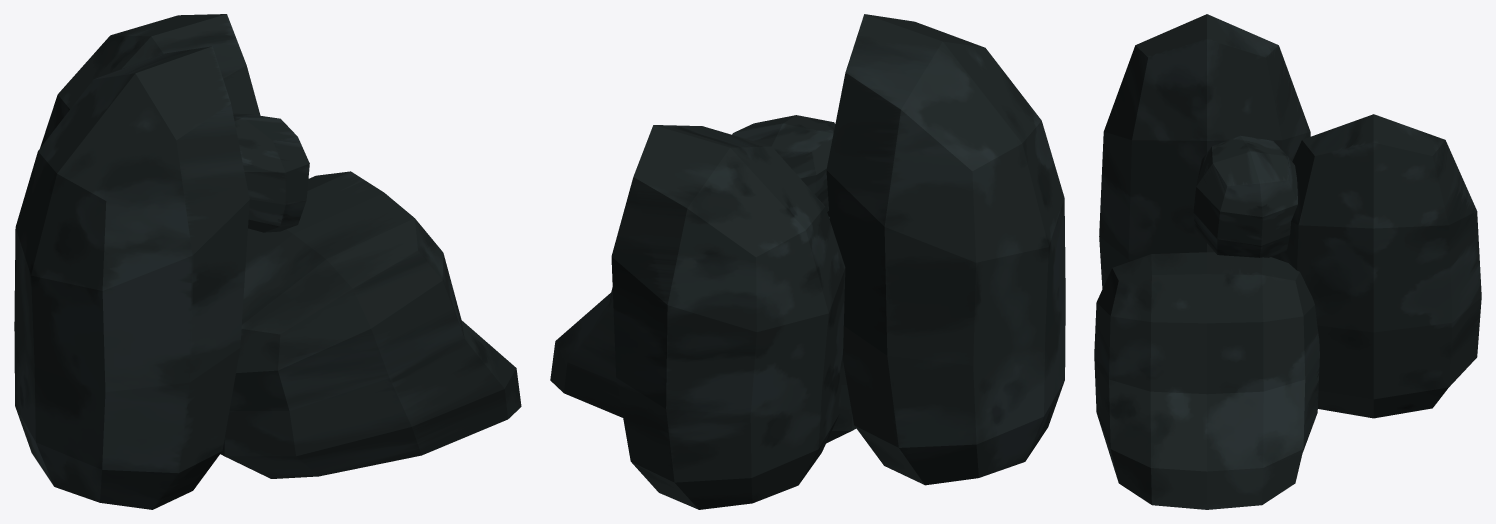
The model's file is dark_Spider_nest.fbx.
The picture shows the model from 3 angles, left to right: view 1: azimuth 30°, elevation 25°; view 2: azimuth 150°, elevation 25°; view 3: azimuth 270°, elevation 25°; orthographic projection. The views are drawn at different scales.
Visible parts, largest first — view 1: Cube.008, Cube.009, Cube.011, Cube.010; view 2: Cube.008, Cube.011, Cube.009, Cube.010; view 3: Cube.009, Cube.011, Cube.008, Cube.010.
Boxes of the visible parts, x1,y1,x2,y2 form: Cube.008: (14,46,249,509); Cube.009: (220,171,521,478); Cube.011: (40,14,260,147); Cube.010: (233,113,309,232); Cube.008: (826,14,1065,485); Cube.011: (611,125,845,509); Cube.009: (550,217,856,443); Cube.010: (732,115,835,216); Cube.009: (1094,252,1319,509); Cube.011: (1271,114,1481,418); Cube.008: (1099,14,1310,288); Cube.010: (1193,135,1297,257).
Size of the model in its own units: 517 by 454 by 434.
Materials: 1 (1 with a texture image).
